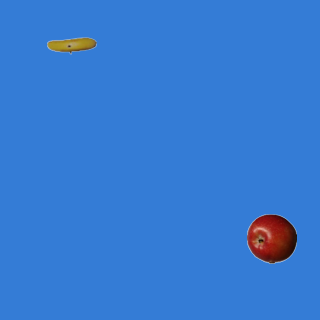Apple Braeburn: (246, 213, 296, 263)
Banana: (46, 20, 96, 70)
